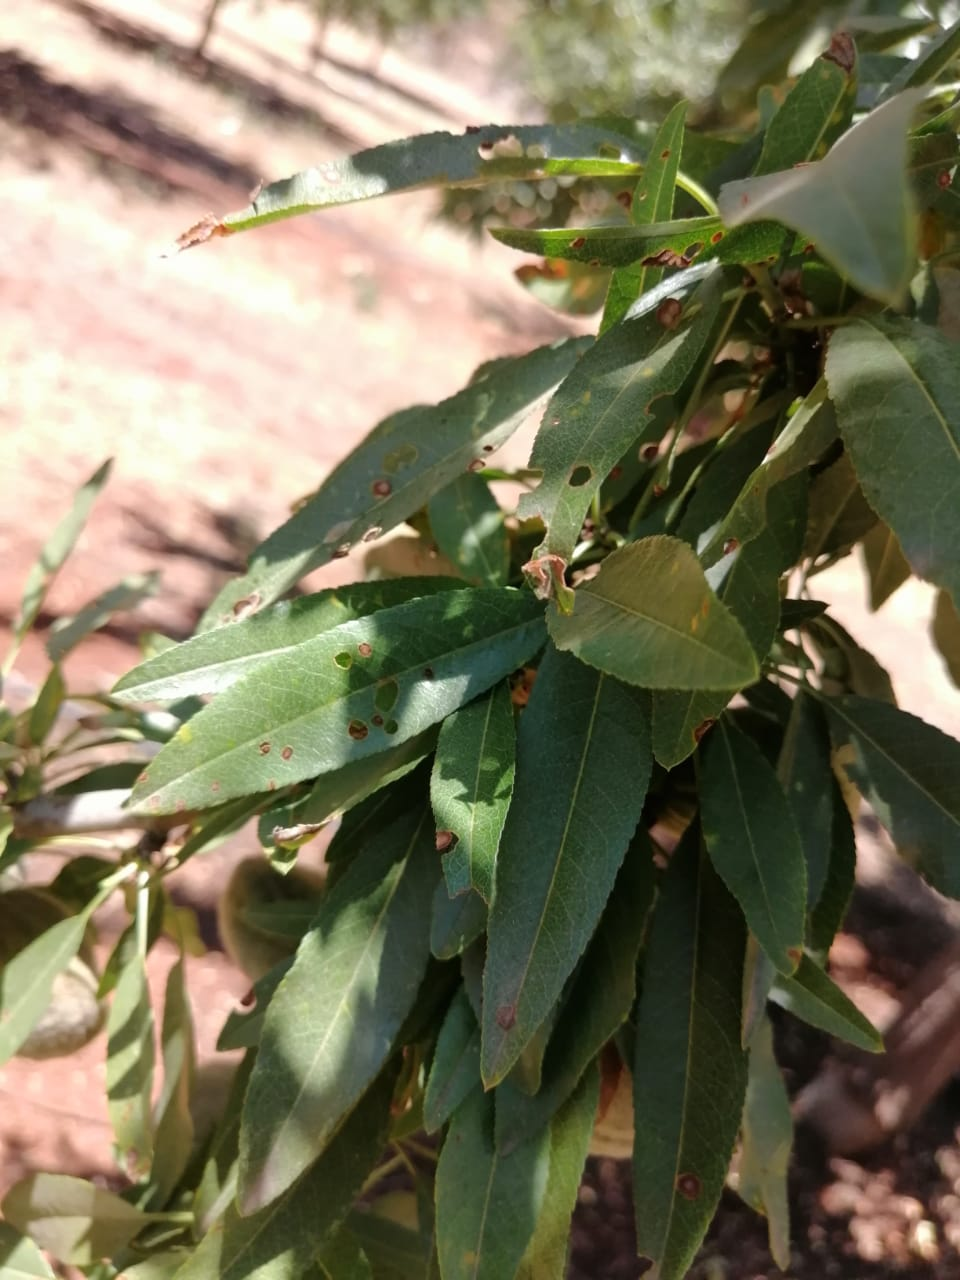coryneum: (122, 587, 552, 822), (171, 121, 686, 254), (517, 267, 729, 577), (632, 817, 748, 1280)
polystigma: (542, 533, 764, 690)
